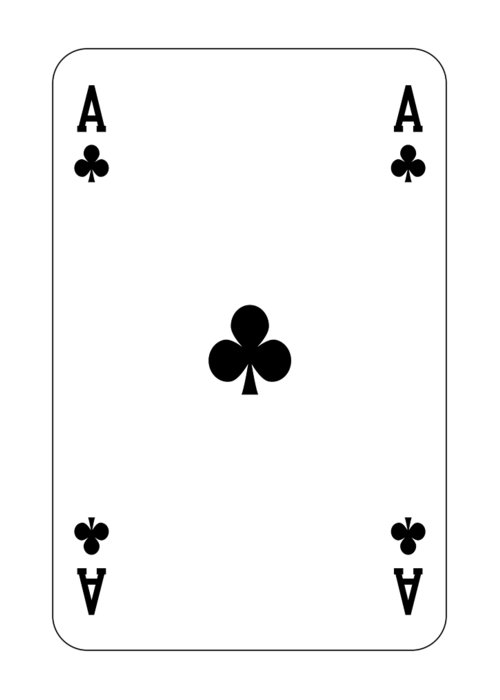ace of clubs: (53, 48, 450, 642)
